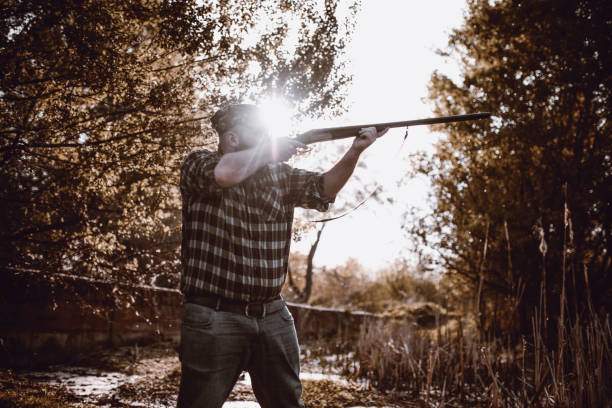gun: (295, 113, 492, 153)
